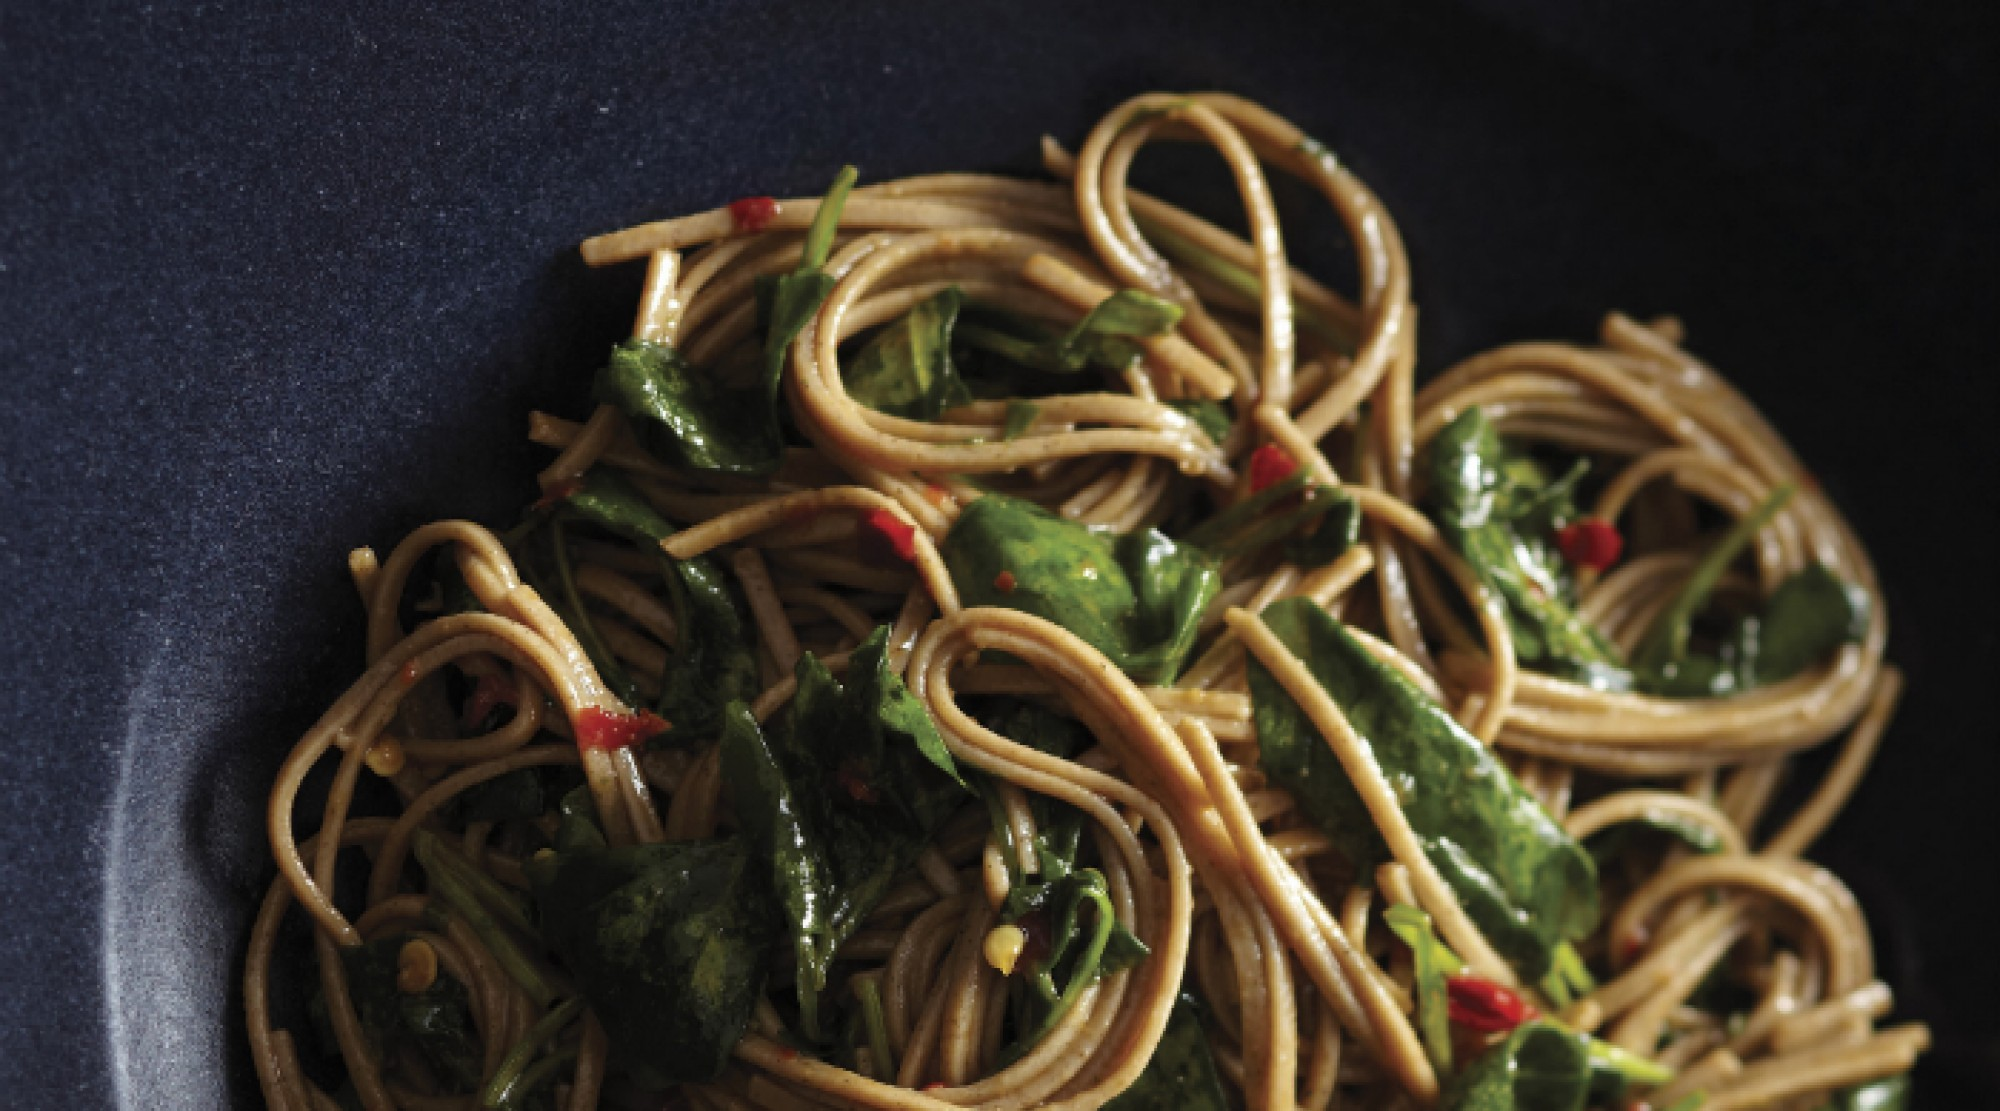Soba: (321, 107, 1952, 1097)
